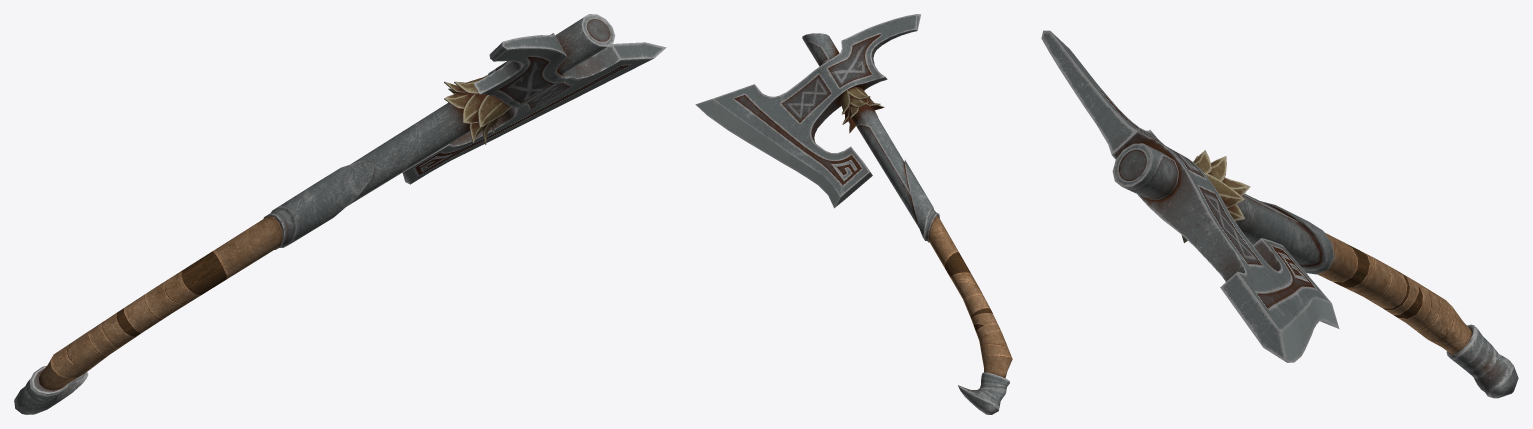
Rendered from fantasy_nordic_axe.glb.
The picture shows the model from 3 angles, left to right: view 1: azimuth 30°, elevation 25°; view 2: azimuth 150°, elevation 25°; view 3: azimuth 270°, elevation 25°; orthographic projection. The views are drawn at different scales.
Visible parts, largest first — view 1: blade_low.001, hand_low.001, axis_p1_low.001, axis_p2_low.001, leafs_low.001, apple_low.001; view 2: blade_low.001, hand_low.001, axis_p1_low.001, apple_low.001, axis_p2_low.001, leafs_low.001; view 3: blade_low.001, hand_low.001, axis_p1_low.001, apple_low.001, leafs_low.001, axis_p2_low.001.
Part boxes in pixels (x1=…): blade_low.001: x1=402, y1=33, x2=666, y2=184; hand_low.001: x1=39, y1=216, x2=282, y2=389; axis_p1_low.001: x1=346, y1=14, x2=615, y2=206; axis_p2_low.001: x1=263, y1=160, x2=374, y2=249; leafs_low.001: x1=444, y1=75, x2=511, y2=144; apple_low.001: x1=14, y1=366, x2=88, y2=414; blade_low.001: x1=695, y1=14, x2=920, y2=208; hand_low.001: x1=928, y1=216, x2=1012, y2=378; axis_p1_low.001: x1=802, y1=33, x2=919, y2=228; apple_low.001: x1=958, y1=372, x2=1009, y2=414; axis_p2_low.001: x1=904, y1=160, x2=939, y2=242; leafs_low.001: x1=840, y1=87, x2=884, y2=133; blade_low.001: x1=1041, y1=30, x2=1339, y2=362; hand_low.001: x1=1317, y1=232, x2=1472, y2=354; axis_p1_low.001: x1=1112, y1=143, x2=1322, y2=266; apple_low.001: x1=1446, y1=324, x2=1518, y2=398; leafs_low.001: x1=1181, y1=150, x2=1250, y2=242; axis_p2_low.001: x1=1261, y1=201, x2=1334, y2=274.
Size of the model in its own units: 0.9925 by 0.7212 by 0.5728.
Materials: 1 (1 with a texture image).
